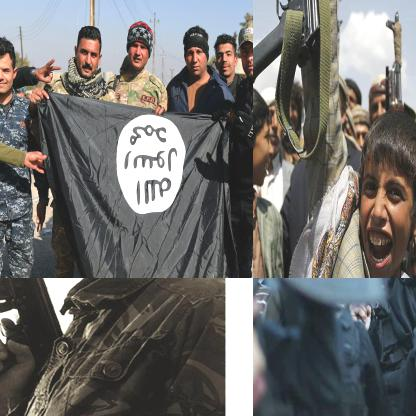rifle: (253, 278, 405, 411), (0, 278, 72, 391), (253, 0, 329, 85), (382, 10, 412, 118)
